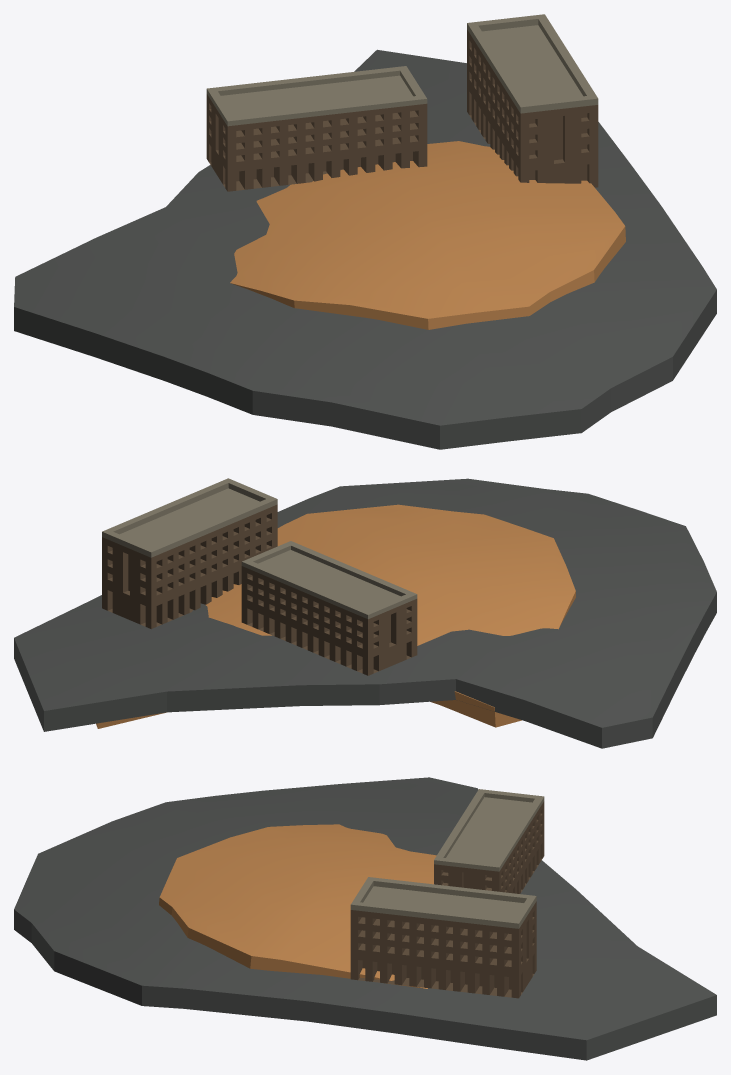
Rendered from SM_Worldmap_B04.FBX.
3 views of the same model, one above another, from view 1: azimuth 30°, elevation 25°; view 2: azimuth 150°, elevation 25°; view 3: azimuth 270°, elevation 25° (orthographic). The views are drawn at different scales.
Parts seen in each view (by area): view 1: Box001; view 2: Box001; view 3: Box001.
Part boxes in pixels (left/top/right/bottom): Box001: left=14, top=14, right=716, bottom=449; Box001: left=14, top=478, right=716, bottom=748; Box001: left=14, top=777, right=716, bottom=1060.
Size of the model in its own units: 235 by 52.09 by 264.
